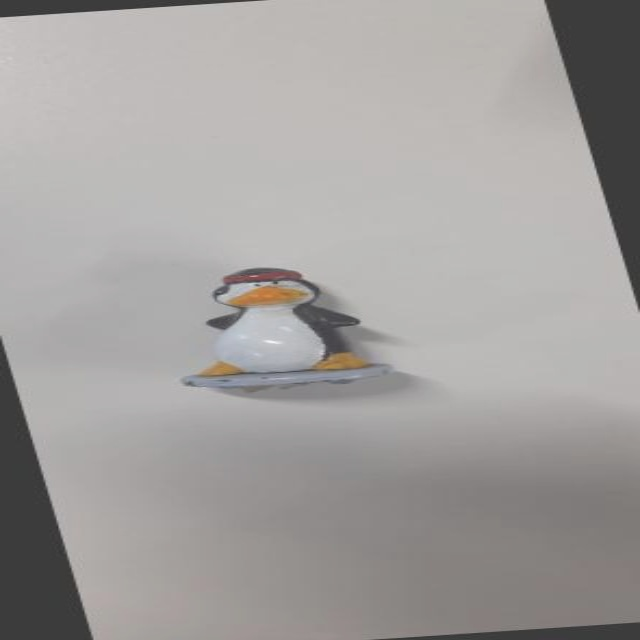Penguin: (114, 221, 426, 413)
